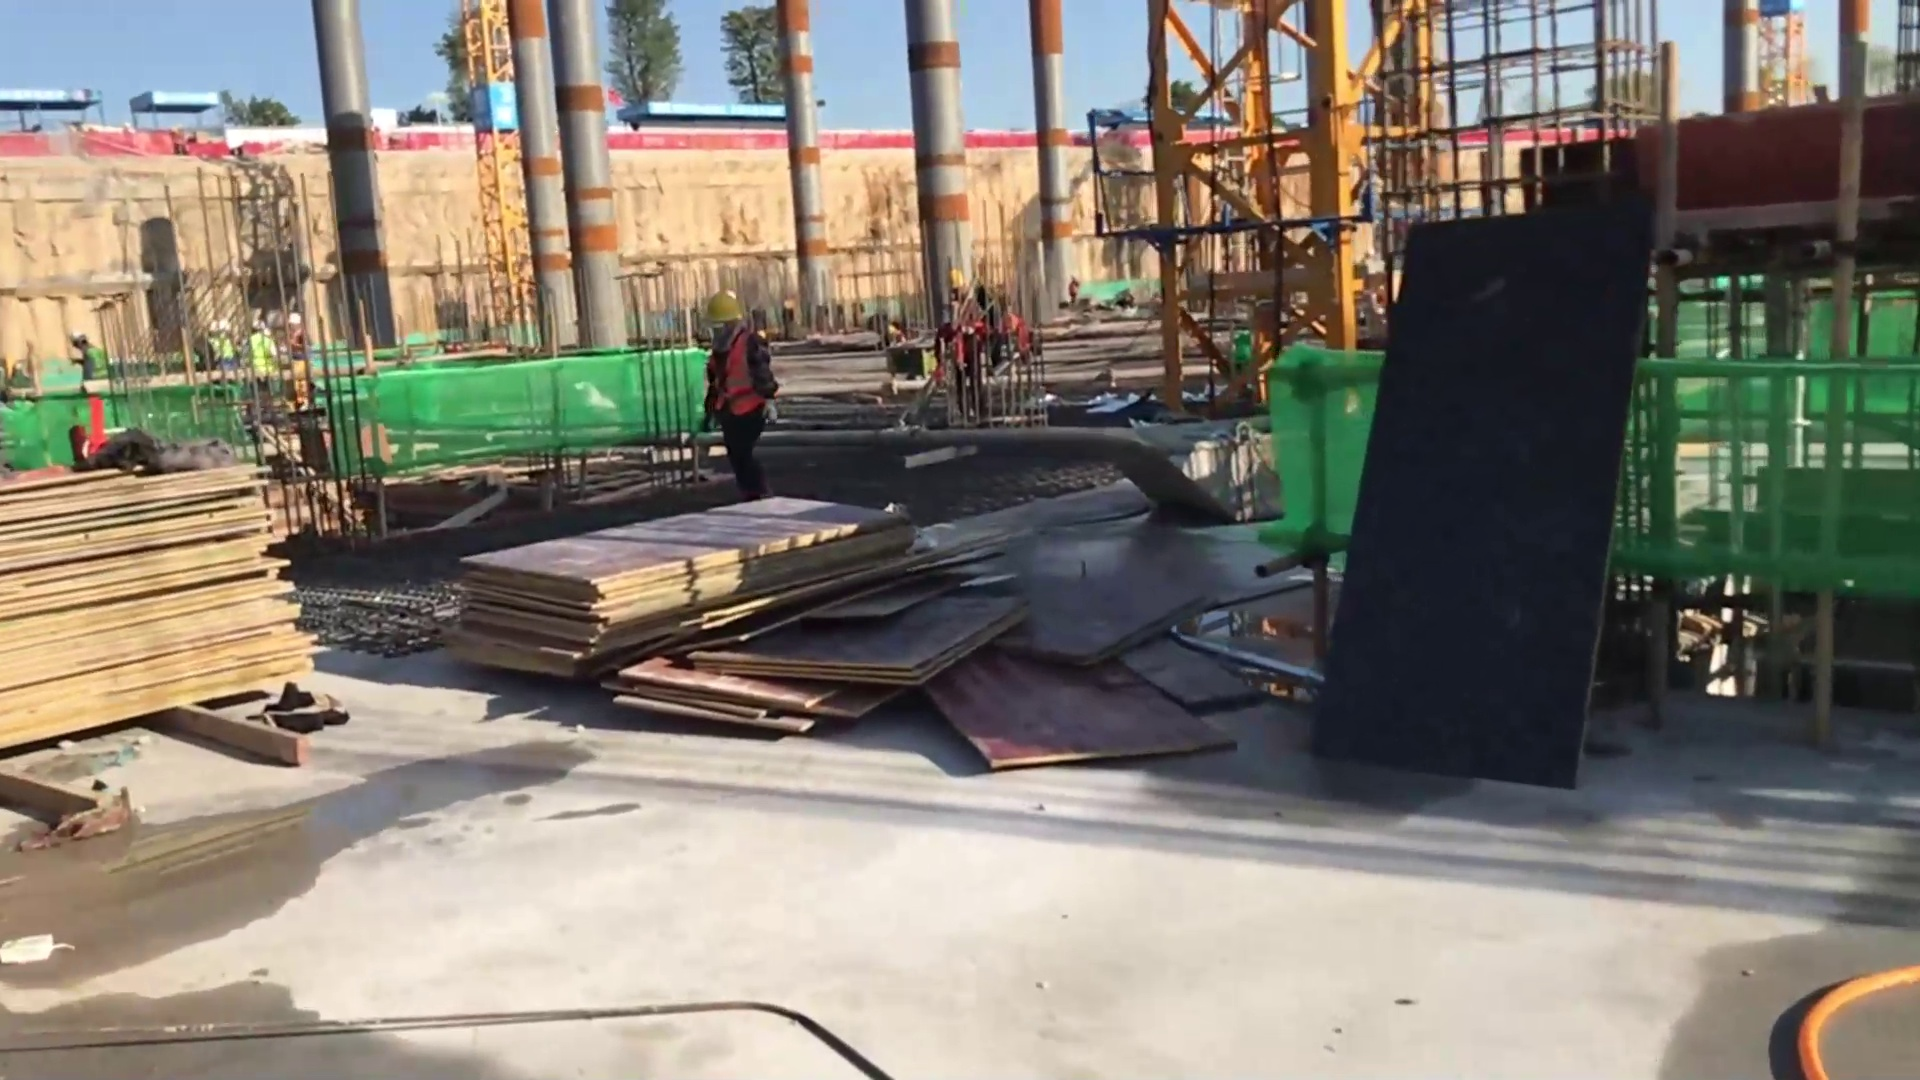helmet: (708, 295, 739, 322)
person: (702, 287, 782, 496), (939, 269, 979, 426), (67, 330, 112, 388), (281, 307, 306, 370), (205, 319, 229, 379), (246, 312, 271, 366)
vest: (706, 334, 760, 418)
